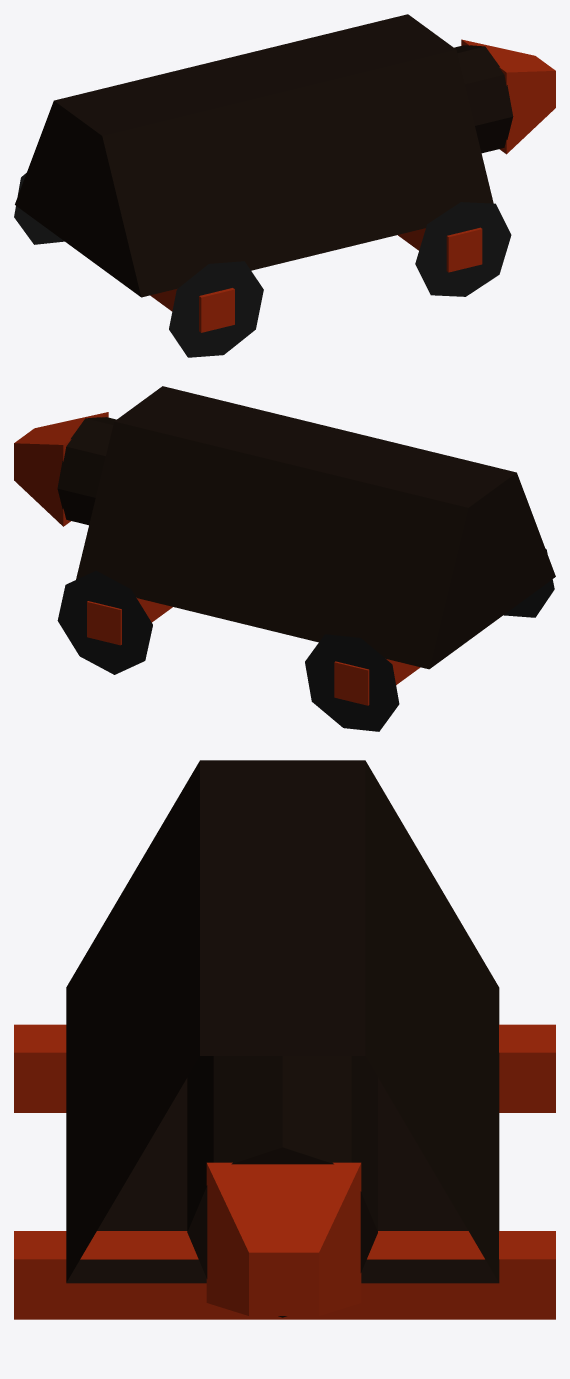
File: heavybatteringram3.obj
3 renders of one model, top to bottom at view 1: azimuth 30°, elevation 25°; view 2: azimuth 150°, elevation 25°; view 3: azimuth 270°, elevation 25°, orthographic. The views are drawn at different scales.
Visible parts, largest first — view 1: Cube, Plane.003, Plane.002, Cube.003, Cube.001, Cube.002, Plane.001; view 2: Cube, Plane.001, Plane, Cube.003, Cube.002, Cube.001, Plane.002; view 3: Cube, Cube.001, Cube.003, Cube.002.
Part boxes in pixels (bbox=[...]): Cube: bbox=[15, 14, 513, 297]; Plane.003: bbox=[415, 202, 511, 296]; Plane.002: bbox=[169, 261, 263, 357]; Cube.003: bbox=[461, 39, 555, 154]; Cube.001: bbox=[398, 227, 482, 272]; Cube.002: bbox=[150, 288, 234, 332]; Plane.001: bbox=[14, 173, 64, 244]; Cube: bbox=[57, 386, 555, 669]; Plane.001: bbox=[305, 634, 399, 731]; Plane: bbox=[57, 570, 152, 674]; Cube.003: bbox=[14, 412, 108, 526]; Cube.002: bbox=[334, 659, 420, 705]; Cube.001: bbox=[87, 597, 172, 645]; Plane.002: bbox=[504, 549, 554, 617]; Cube: bbox=[66, 760, 499, 1317]; Cube.001: bbox=[14, 1231, 555, 1319]; Cube.003: bbox=[206, 1162, 361, 1315]; Cube.002: bbox=[14, 1024, 555, 1112].
Size of the model in its own units: 10.17 by 4.16 by 5.96.
